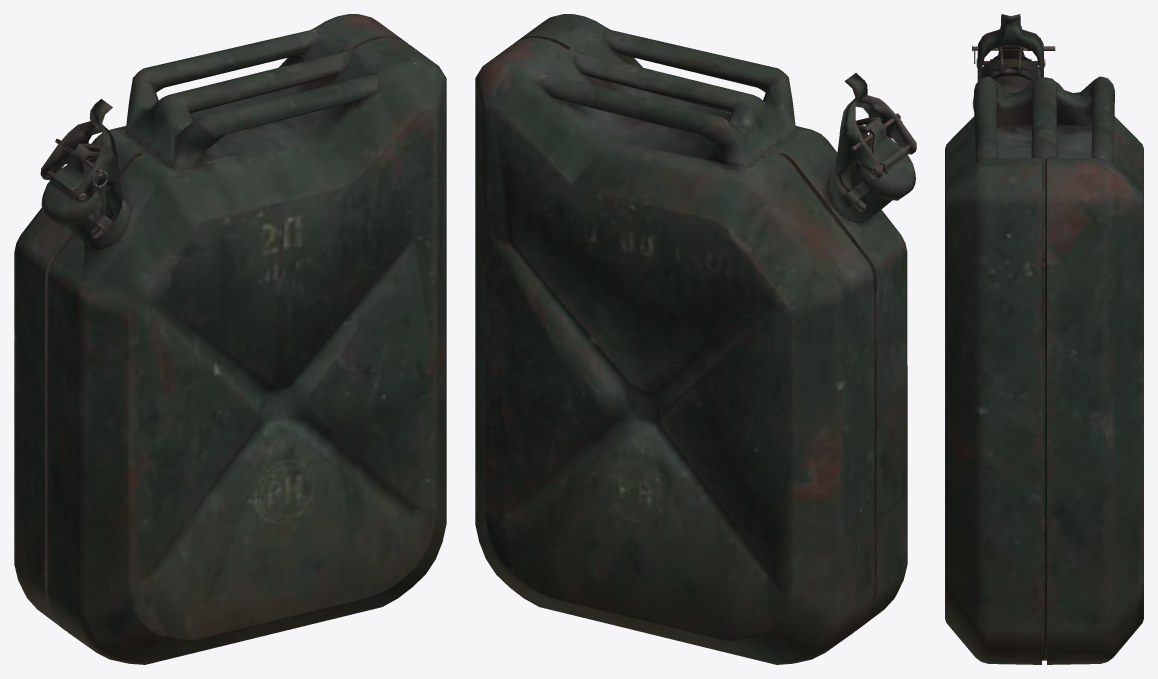
Rendered from metal_jerrycan_green.glb.
3 renders of one model, left to right at view 1: azimuth 30°, elevation 25°; view 2: azimuth 150°, elevation 25°; view 3: azimuth 270°, elevation 25°, orthographic. The views are drawn at different scales.
Visible parts, largest first — view 1: metal_jerrycan_green_pin; view 2: metal_jerrycan_green_pin; view 3: metal_jerrycan_green_pin.
Boxes of the visible parts, bbox=[...] form: metal_jerrycan_green_pin: bbox=[14, 14, 446, 664]; metal_jerrycan_green_pin: bbox=[475, 14, 916, 664]; metal_jerrycan_green_pin: bbox=[945, 14, 1143, 664].
Size of the model in its own units: 0.3604 by 0.4998 by 0.1709.
Materials: 1 (1 with a texture image).
